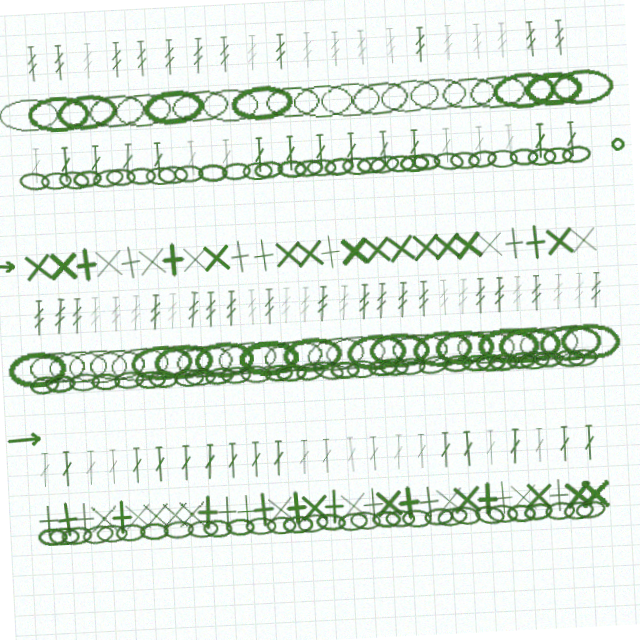chain: (302, 334, 365, 375), (66, 81, 130, 121), (106, 335, 170, 375), (259, 335, 323, 375), (515, 335, 580, 374), (359, 81, 422, 121), (389, 81, 452, 121), (179, 81, 242, 120), (241, 81, 304, 120), (477, 81, 540, 120), (128, 336, 192, 374), (96, 81, 158, 120), (153, 81, 215, 120), (214, 335, 276, 374), (453, 336, 516, 374), (537, 336, 600, 374), (410, 335, 471, 374), (558, 335, 619, 374), (123, 82, 185, 120), (151, 336, 213, 374), (171, 336, 233, 374), (504, 82, 567, 119), (562, 82, 625, 119), (322, 336, 385, 373), (475, 336, 538, 373), (450, 82, 511, 120), (5, 336, 66, 374), (280, 336, 342, 373), (8, 83, 71, 119), (38, 83, 101, 119), (302, 83, 365, 119), (330, 83, 393, 119), (496, 337, 559, 373), (211, 82, 272, 119), (419, 82, 480, 119), (25, 336, 86, 373), (344, 336, 405, 373), (367, 336, 428, 373), (388, 336, 449, 373), (192, 336, 252, 373), (45, 337, 106, 373), (65, 337, 126, 373), (85, 337, 146, 373), (236, 337, 297, 373), (433, 337, 494, 373), (274, 83, 334, 119), (535, 83, 595, 119), (308, 358, 343, 384), (463, 511, 496, 535), (415, 359, 448, 382), (439, 511, 472, 534), (292, 359, 324, 382), (65, 157, 98, 179), (99, 157, 132, 179), (440, 157, 473, 179), (71, 512, 104, 534), (426, 512, 459, 534), (376, 157, 408, 179), (26, 360, 58, 382), (201, 360, 233, 382), (339, 512, 372, 533), (26, 157, 58, 178), (287, 512, 319, 533), (477, 512, 509, 533), (331, 157, 362, 178), (475, 157, 506, 178), (376, 360, 407, 381), (504, 360, 535, 381), (305, 512, 336, 533), (513, 512, 544, 533), (237, 361, 269, 381), (50, 513, 82, 533), (553, 513, 585, 533), (301, 158, 332, 178), (349, 158, 380, 178), (457, 158, 488, 178), (145, 361, 176, 381), (486, 361, 517, 381), (192, 513, 223, 533), (327, 513, 358, 533), (391, 513, 422, 533), (496, 513, 527, 533), (565, 513, 596, 533), (165, 158, 196, 177), (261, 158, 292, 177), (284, 158, 315, 177), (569, 158, 600, 177), (42, 361, 73, 380), (66, 361, 97, 380), (111, 361, 142, 380), (552, 361, 583, 380), (153, 513, 184, 532), (361, 513, 392, 532), (80, 158, 110, 177), (113, 158, 143, 177), (134, 158, 164, 177), (181, 158, 211, 177), (205, 158, 235, 177), (229, 158, 259, 177), (419, 158, 449, 177), (517, 158, 547, 177), (440, 361, 470, 380), (531, 361, 561, 380), (375, 513, 405, 532), (414, 513, 444, 532), (535, 513, 565, 532), (48, 159, 79, 177), (153, 159, 184, 177), (495, 159, 526, 177), (132, 362, 163, 380), (182, 362, 213, 380), (218, 362, 249, 380), (273, 362, 304, 380), (344, 362, 375, 380), (392, 362, 423, 380), (565, 362, 596, 380), (38, 514, 69, 532), (86, 514, 117, 532), (177, 514, 208, 532), (235, 514, 266, 532), (272, 514, 303, 532), (250, 159, 280, 177), (314, 159, 344, 177), (364, 159, 394, 177), (393, 159, 423, 177), (407, 159, 437, 177), (535, 159, 565, 177), (551, 159, 581, 177), (88, 362, 118, 380), (171, 362, 201, 380), (261, 362, 291, 380), (327, 362, 357, 380), (365, 362, 395, 380), (459, 362, 489, 380), (473, 362, 503, 380), (517, 362, 547, 380), (27, 514, 57, 532), (105, 514, 135, 532), (129, 514, 159, 532), (215, 514, 245, 532), (256, 514, 286, 532)
double: (129, 134, 143, 170), (196, 438, 210, 474), (338, 438, 352, 474), (160, 134, 173, 170), (194, 134, 207, 170), (386, 134, 399, 170), (512, 134, 525, 170), (574, 134, 587, 170), (31, 438, 44, 474), (77, 438, 90, 474), (265, 438, 278, 474), (291, 438, 304, 474), (385, 438, 398, 474), (455, 438, 468, 474), (502, 438, 515, 474), (38, 134, 50, 170), (68, 134, 80, 170), (98, 134, 110, 170), (229, 134, 241, 170), (262, 134, 274, 170), (293, 134, 305, 170), (323, 134, 335, 170), (354, 134, 366, 170), (417, 134, 429, 170), (449, 134, 461, 170), (482, 134, 494, 170), (543, 134, 555, 170), (54, 438, 66, 474), (100, 438, 112, 474), (124, 438, 136, 474), (147, 438, 159, 474), (173, 438, 185, 474), (220, 438, 232, 474), (243, 438, 255, 474), (314, 438, 326, 474), (361, 438, 373, 474), (409, 438, 421, 474), (433, 438, 445, 474), (478, 438, 490, 474), (527, 438, 539, 474), (552, 438, 564, 474), (577, 438, 589, 474)
noise: (1, 417, 37, 432), (618, 151, 635, 168), (0, 245, 20, 257)
single: (114, 233, 154, 273), (224, 233, 263, 272), (247, 233, 286, 272), (314, 233, 353, 272), (385, 233, 424, 272), (452, 233, 491, 272), (38, 487, 77, 526), (22, 234, 60, 272), (70, 234, 108, 272), (136, 234, 174, 272), (294, 234, 332, 272), (499, 234, 537, 272), (520, 234, 558, 272), (544, 234, 582, 272), (568, 234, 606, 272), (252, 488, 290, 526), (325, 488, 363, 526), (381, 488, 419, 526), (401, 488, 439, 526), (421, 488, 459, 526), (550, 488, 588, 526), (93, 234, 130, 271), (158, 234, 195, 271), (201, 234, 238, 271), (273, 234, 310, 271), (339, 234, 376, 271), (362, 234, 399, 271), (411, 234, 448, 271), (432, 234, 469, 271), (180, 488, 217, 525), (236, 488, 273, 525), (269, 488, 306, 525), (345, 488, 382, 525), (361, 488, 398, 525), (439, 488, 476, 525), (475, 488, 512, 525), (511, 488, 548, 525), (48, 235, 84, 271), (180, 235, 216, 271), (475, 235, 511, 271), (21, 489, 57, 525), (57, 489, 93, 525), (76, 489, 112, 525), (94, 489, 130, 525), (110, 489, 146, 525), (128, 489, 164, 525), (147, 489, 183, 525), (164, 489, 200, 525), (200, 489, 236, 525), (219, 489, 255, 525), (287, 489, 323, 525), (307, 489, 343, 525), (460, 489, 496, 525), (496, 489, 532, 525), (532, 489, 568, 525), (568, 489, 604, 525)
treble: (186, 285, 202, 322), (53, 285, 68, 322), (316, 286, 331, 322), (337, 286, 352, 322), (375, 286, 390, 322), (396, 286, 411, 322), (538, 32, 552, 68), (129, 286, 143, 322), (149, 286, 163, 322), (166, 286, 180, 322), (225, 286, 239, 322), (280, 286, 294, 322), (299, 286, 313, 322), (358, 286, 372, 322), (457, 286, 471, 322), (552, 286, 566, 322), (573, 286, 587, 322), (590, 286, 604, 322), (39, 32, 52, 68), (66, 32, 79, 68), (205, 32, 218, 68), (259, 32, 272, 68), (369, 32, 382, 68), (398, 32, 411, 68), (567, 32, 580, 68), (33, 286, 46, 322), (71, 286, 84, 322), (89, 286, 102, 322), (110, 286, 123, 322), (205, 286, 218, 322), (418, 286, 431, 322), (475, 286, 488, 322), (494, 286, 507, 322), (512, 286, 525, 322), (531, 286, 544, 322), (95, 32, 107, 68), (124, 32, 136, 68), (149, 32, 161, 68), (177, 32, 189, 68), (232, 32, 244, 68), (288, 32, 300, 68), (315, 32, 327, 68), (343, 32, 355, 68), (428, 32, 440, 68), (456, 32, 468, 68), (485, 32, 497, 68), (510, 32, 522, 68), (247, 286, 259, 322), (264, 286, 276, 322), (439, 286, 451, 322)
